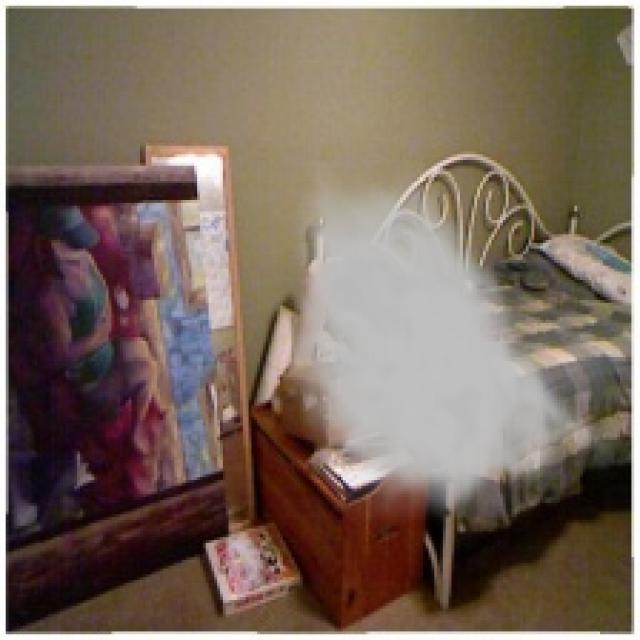smoke: (280, 157, 623, 529)
